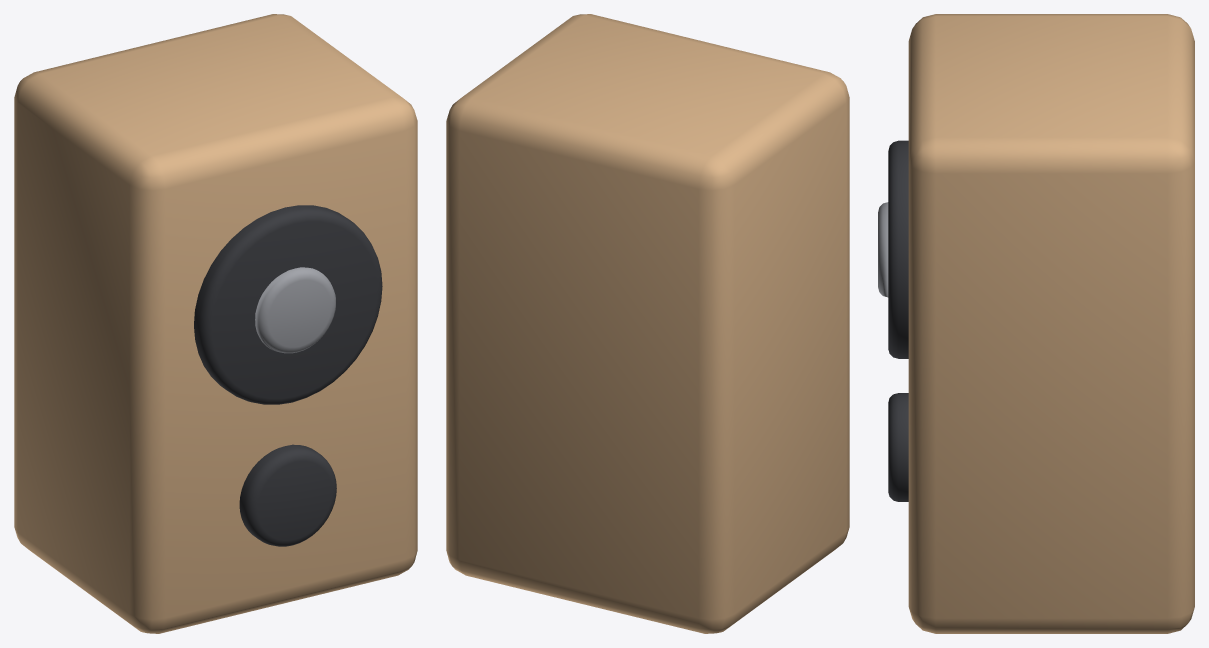
The model's file is sound.glb.
The picture shows the model from 3 angles, left to right: view 1: azimuth 30°, elevation 25°; view 2: azimuth 150°, elevation 25°; view 3: azimuth 270°, elevation 25°; orthographic projection. The views are drawn at different scales.
Visible parts, largest first — view 1: sound; view 2: sound; view 3: sound.
Part boxes in pixels (x1,y1,x2,y2): sound: (14, 14, 417, 633); sound: (446, 14, 849, 633); sound: (878, 14, 1194, 633).
Bounding box in the file's own units: 0.5 × 0.7998 × 0.465.
